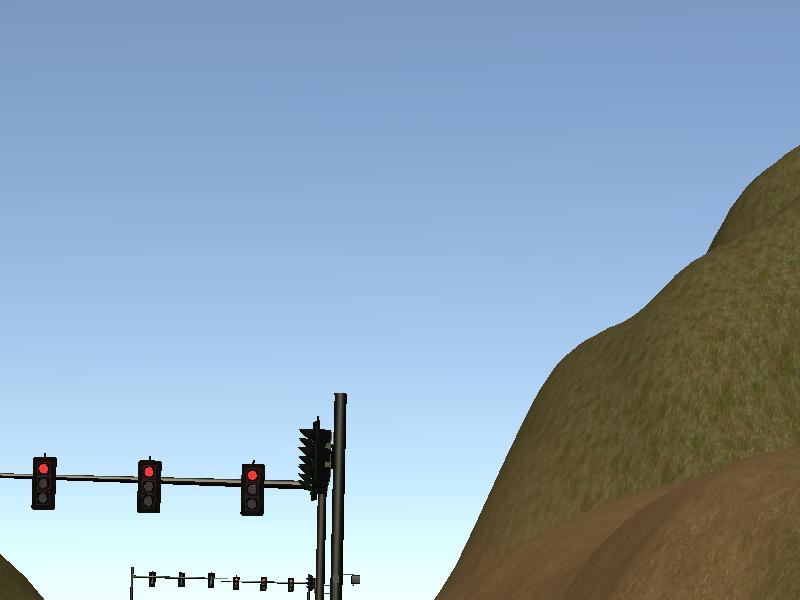red_light: (139, 460, 161, 512), (33, 458, 55, 509), (243, 465, 265, 513)
